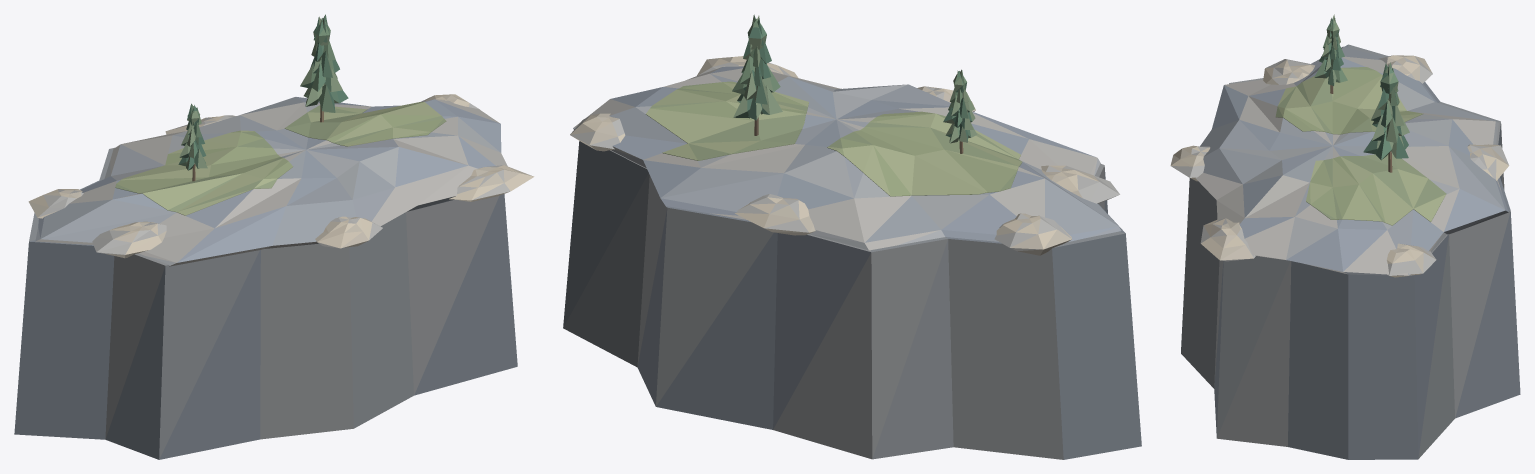
File: island_near_left.glb
3 renders of one model, left to right at view 1: azimuth 30°, elevation 25°; view 2: azimuth 150°, elevation 25°; view 3: azimuth 270°, elevation 25°, orthographic. The views are drawn at different scales.
Parts seen in each view (by area): view 1: island_near_left_rockroot, island_near_left_shoulder, island_near_left_grasscap_west, island_near_left_grasscap_east, island_near_left_wetshore_03, island_near_left_wetshore_05, island_near_left_wetshore_04, island_near_left_wetshore_02, island_near_left_pine_02_crown_tier_00, island_near_left_pine_02_crown_tier_01; view 2: island_near_left_rockroot, island_near_left_shoulder, island_near_left_grasscap_west, island_near_left_grasscap_east, island_near_left_wetshore_01, island_near_left_wetshore_02, island_near_left_wetshore_03, island_near_left_wetshore_00, island_near_left_pine_02_crown_tier_01, island_near_left_pine_02_crown_tier_00, island_near_left_wetshore_05; view 3: island_near_left_rockroot, island_near_left_shoulder, island_near_left_grasscap_east, island_near_left_grasscap_west, island_near_left_wetshore_05, island_near_left_wetshore_00, island_near_left_wetshore_01, island_near_left_wetshore_03, island_near_left_wetshore_04, island_near_left_wetshore_02, island_near_left_pine_02_crown_tier_00, island_near_left_pine_02_crown_tier_01 (+2 smaller).
Boxes of the visible parts, bbox=[...] form: island_near_left_rockroot: bbox=[14, 147, 517, 459]; island_near_left_shoulder: bbox=[35, 97, 507, 266]; island_near_left_grasscap_west: bbox=[115, 130, 293, 215]; island_near_left_grasscap_east: bbox=[284, 102, 446, 146]; island_near_left_wetshore_03: bbox=[92, 221, 166, 258]; island_near_left_wetshore_05: bbox=[449, 165, 534, 201]; island_near_left_wetshore_04: bbox=[315, 216, 382, 248]; island_near_left_wetshore_02: bbox=[28, 189, 83, 218]; island_near_left_pine_02_crown_tier_00: bbox=[303, 84, 348, 112]; island_near_left_pine_02_crown_tier_01: bbox=[300, 63, 342, 91]; island_near_left_rockroot: bbox=[563, 141, 1141, 459]; island_near_left_shoulder: bbox=[573, 66, 1121, 250]; island_near_left_grasscap_west: bbox=[827, 111, 1022, 196]; island_near_left_grasscap_east: bbox=[646, 81, 808, 160]; island_near_left_wetshore_01: bbox=[735, 194, 815, 235]; island_near_left_wetshore_02: bbox=[994, 213, 1071, 255]; island_near_left_wetshore_03: bbox=[1041, 165, 1119, 203]; island_near_left_wetshore_00: bbox=[570, 113, 625, 151]; island_near_left_pine_02_crown_tier_01: bbox=[732, 66, 780, 104]; island_near_left_pine_02_crown_tier_00: bbox=[733, 85, 782, 120]; island_near_left_wetshore_05: bbox=[697, 56, 798, 77]; island_near_left_rockroot: bbox=[1181, 44, 1520, 459]; island_near_left_shoulder: bbox=[1195, 46, 1508, 275]; island_near_left_grasscap_east: bbox=[1306, 153, 1446, 225]; island_near_left_grasscap_west: bbox=[1275, 67, 1423, 134]; island_near_left_wetshore_05: bbox=[1200, 218, 1255, 261]; island_near_left_wetshore_00: bbox=[1387, 243, 1436, 277]; island_near_left_wetshore_01: bbox=[1467, 144, 1509, 180]; island_near_left_wetshore_03: bbox=[1263, 59, 1314, 84]; island_near_left_wetshore_04: bbox=[1170, 145, 1210, 181]; island_near_left_wetshore_02: bbox=[1379, 55, 1432, 83]; island_near_left_pine_02_crown_tier_00: bbox=[1363, 130, 1408, 160]; island_near_left_pine_02_crown_tier_01: bbox=[1372, 114, 1409, 143].
Bounding box in the file's own units: 68.67 × 43.59 × 41.84.
